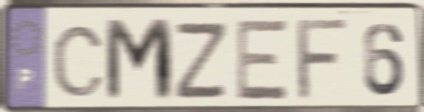6: (361, 20, 408, 99)
C: (49, 23, 108, 100)
E: (233, 17, 291, 103)
F: (295, 16, 353, 104)
M: (102, 16, 177, 106)
Z: (171, 19, 231, 102)
